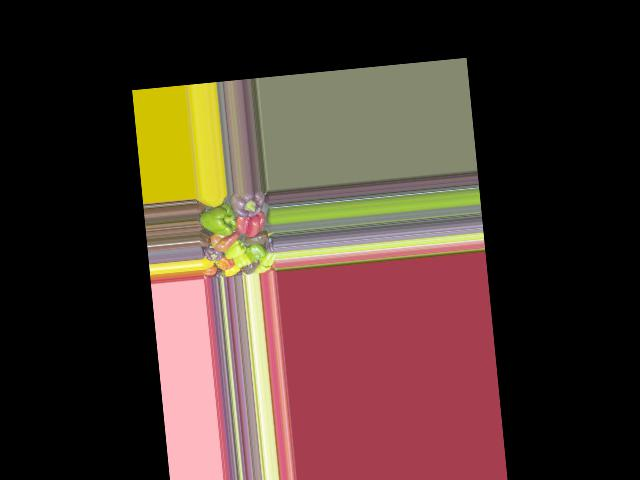bell_pepper: (202, 245, 224, 264)
